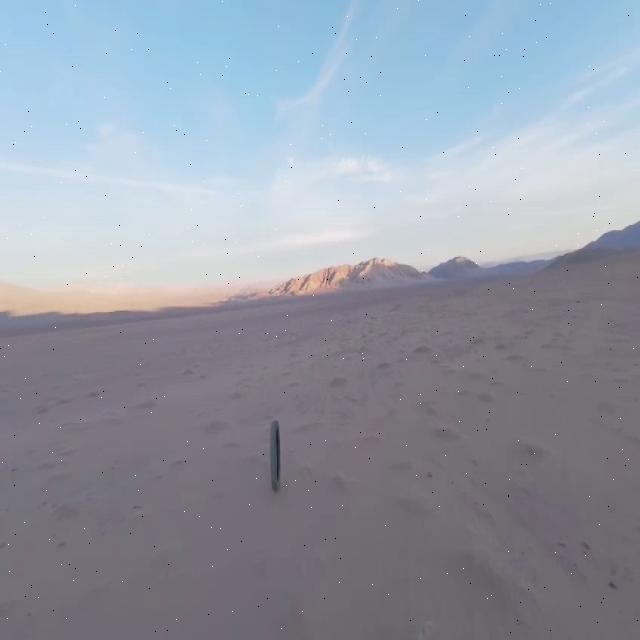Tire: (271, 420, 281, 490)
